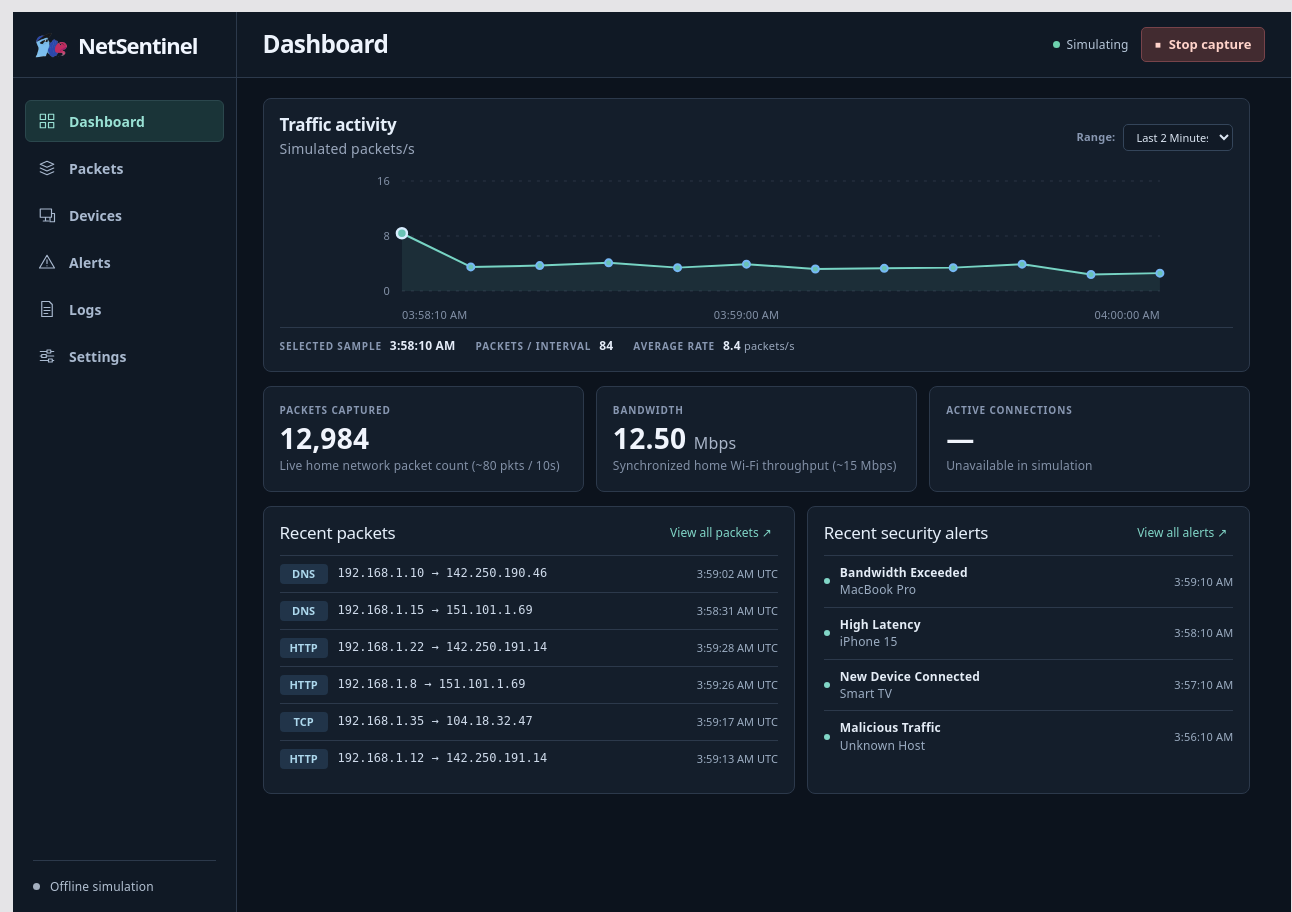
Packets tab virtualization › displays packet hosts and labels from the shared simulation data
Click the button "Packets" at (124, 168), box [25,147,224,189]
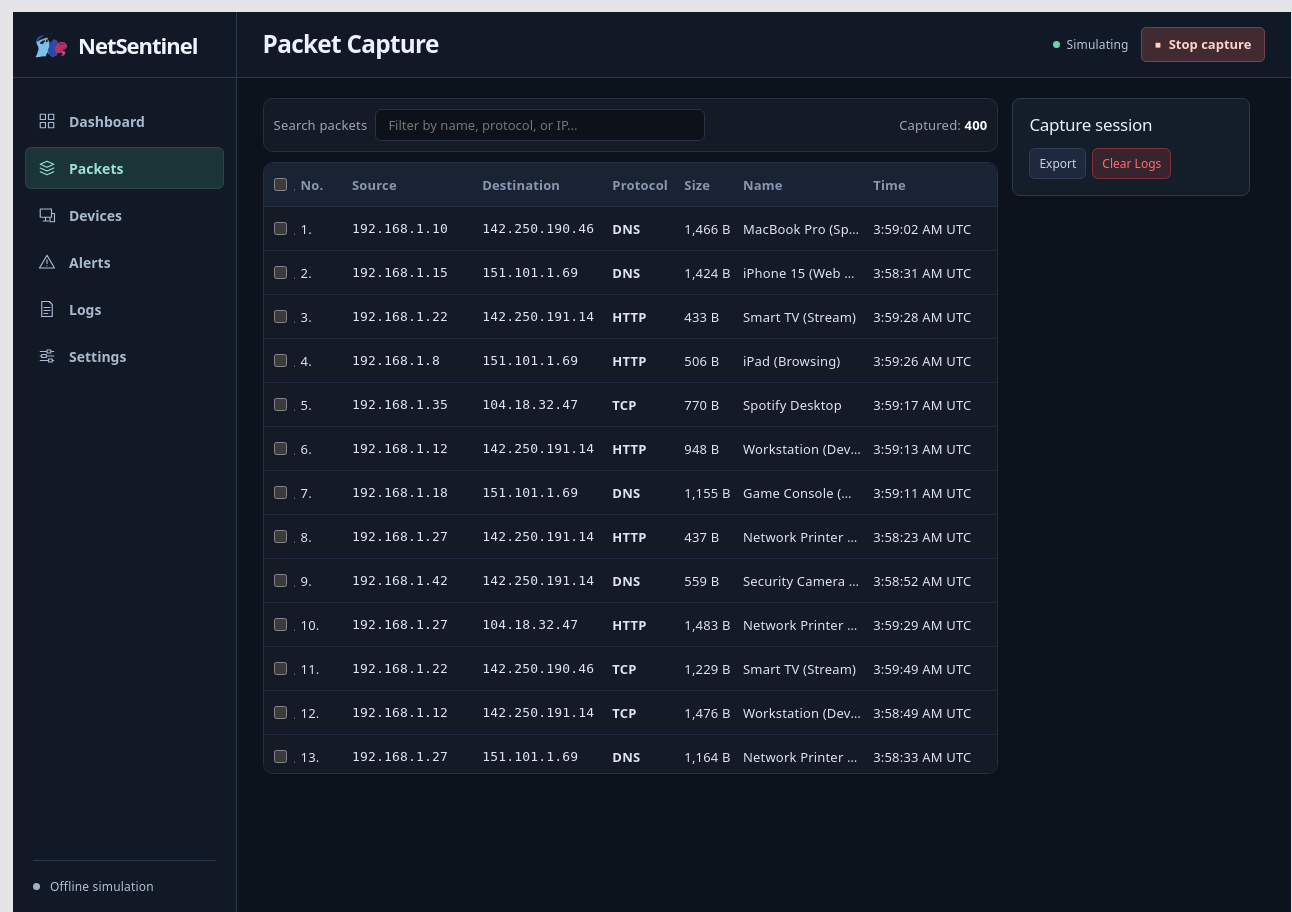
Result: the cell "MacBook Pro (Spotify)" is shown at [737,206,867,250]
Result: the cell "iPhone 15 (Web Surfing)" is shown at [737,250,867,294]
Result: the cell "Smart TV (Stream)" next to "433 B" is shown at [743,308,856,326]
